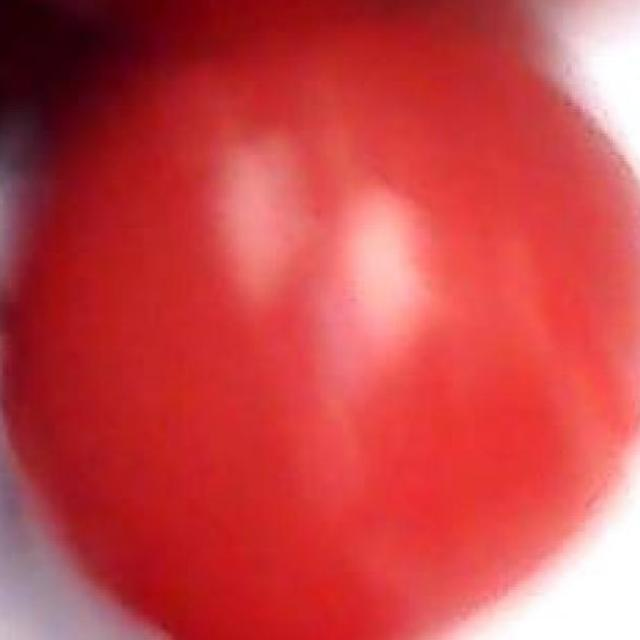Healthy: (10, 0, 640, 640)
